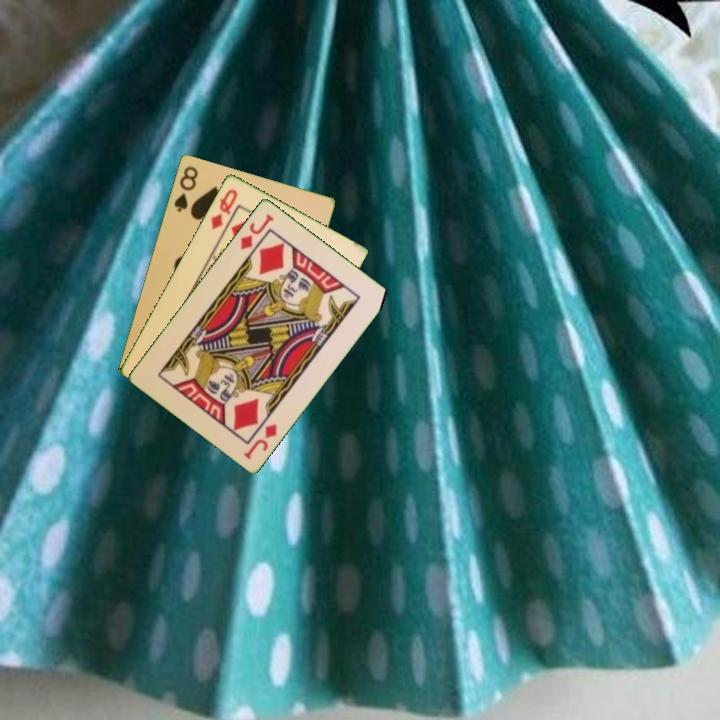8s: (170, 162, 201, 215)
Jd: (236, 210, 277, 252), (240, 420, 280, 462)
Qd: (207, 185, 241, 232)
